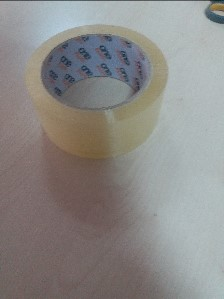band: (28, 21, 173, 165)
